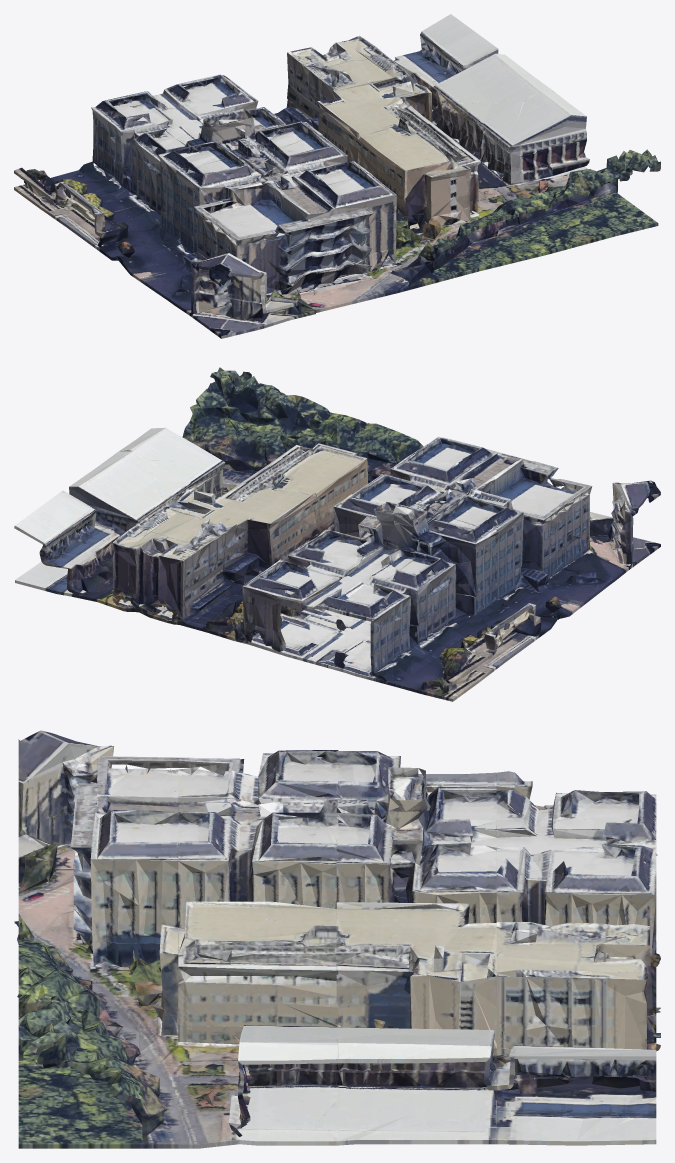
Rendered from Split25.fbx.
3 renders of one model, top to bottom at view 1: azimuth 30°, elevation 25°; view 2: azimuth 150°, elevation 25°; view 3: azimuth 270°, elevation 25°, orthographic. The views are drawn at different scales.
Parts seen in each view (by area): view 1: BuildingMesh-00058; view 2: BuildingMesh-00058; view 3: BuildingMesh-00058.
Boxes of the visible parts, bbox=[...] form: BuildingMesh-00058: bbox=[14, 14, 660, 338]; BuildingMesh-00058: bbox=[14, 367, 660, 701]; BuildingMesh-00058: bbox=[14, 730, 660, 1148].
Bounding box in the file's own units: 196 × 41.96 × 162.
Materials: 5 (5 with a texture image).
